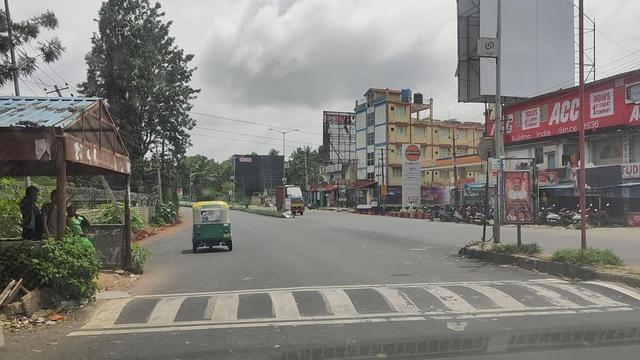LMV: (191, 201, 236, 248)
SpeedBump: (88, 275, 628, 335)
